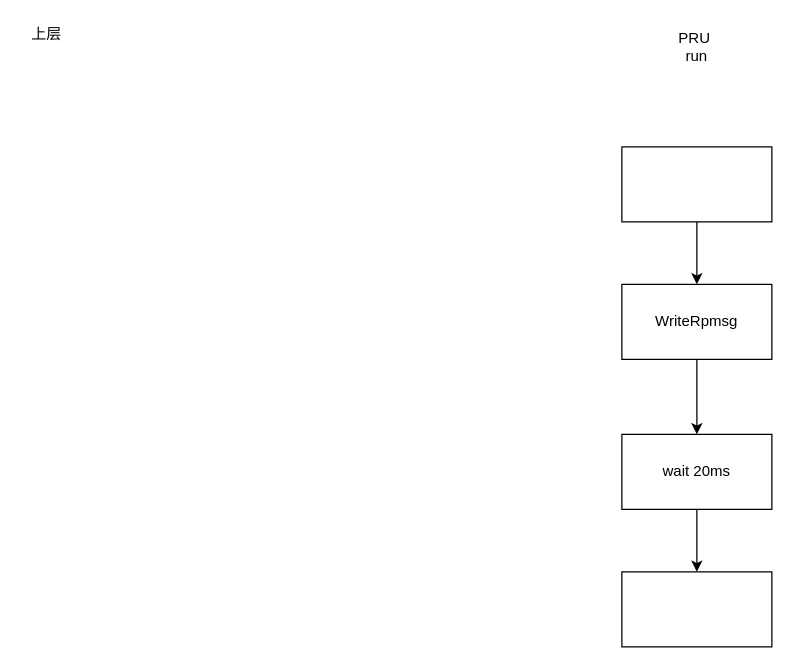
Some shapes in this 794 by 669 pixel diagram are drawn without their labels. The shapes that lost their labels are listed below. From the top down, each one's centre as x and y in pixels, then its label:
At (x=696, y=184): "data自增，checksum组装".
At (x=696, y=609): "ret =0".
